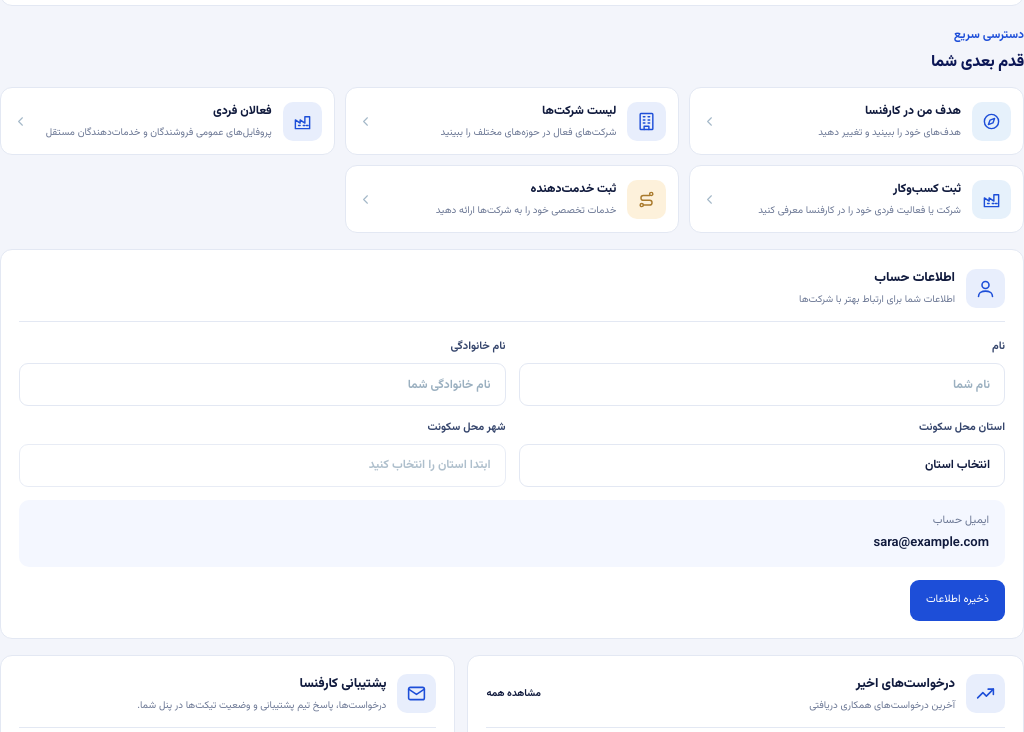
AccountPage › shows member details and saves profile completion
The width and height of the screenshot is (1024, 732).
(page scrolled)
Check: the text "لیست شرکت‌ها" is shown, box [542,102,616,120]
Check: the text "ثبت خدمت‌دهنده" is shown, box [530,180,616,198]
In the field labelled "نام": (762, 385) [518,363,1005,406], type "سارا"
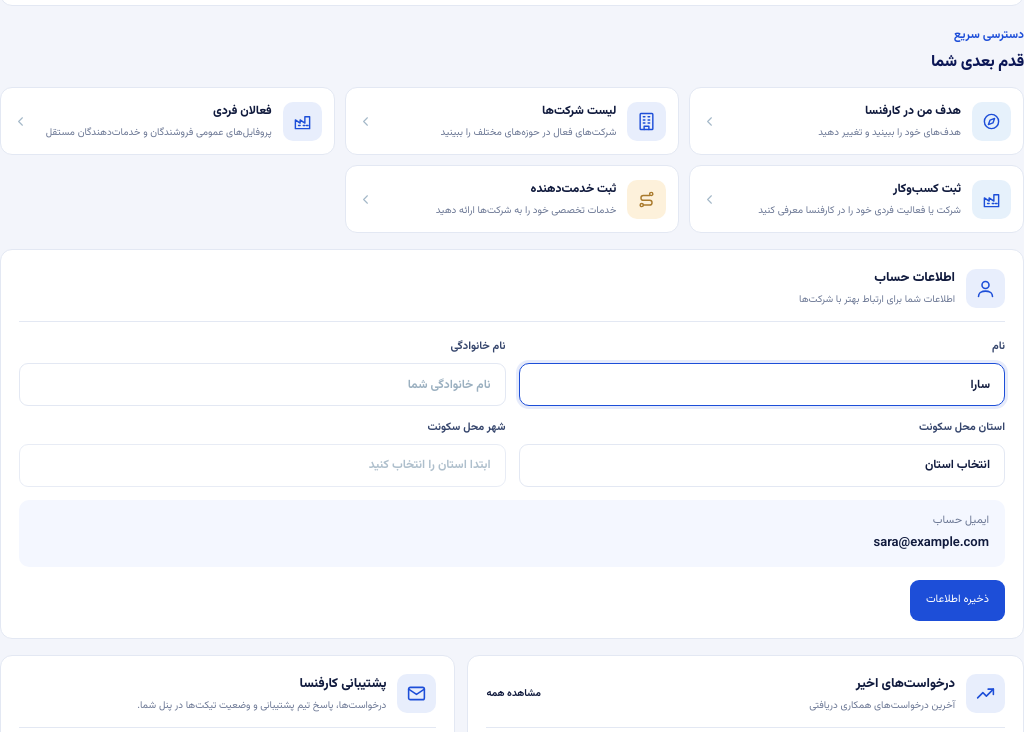
In the field labelled "نام خانوادگی": (262, 385) [19,363,506,406], type "احمدی"
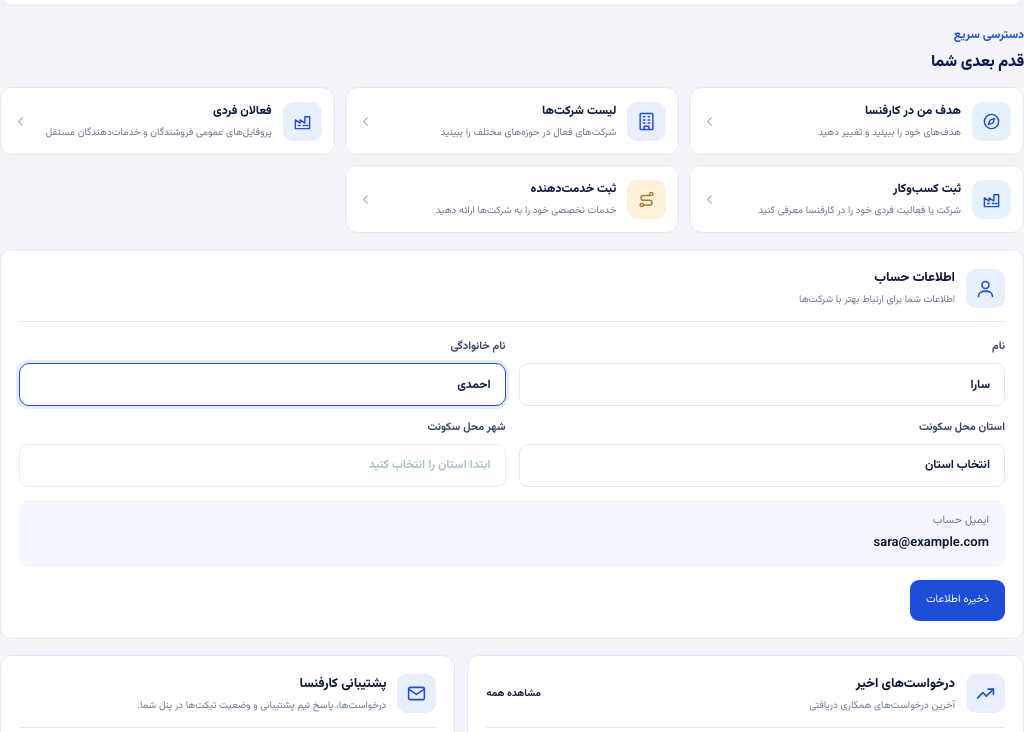
Select "تهران" in the dropdown labelled "استان محل سکونت": (762, 465) [518,444,1005,487]
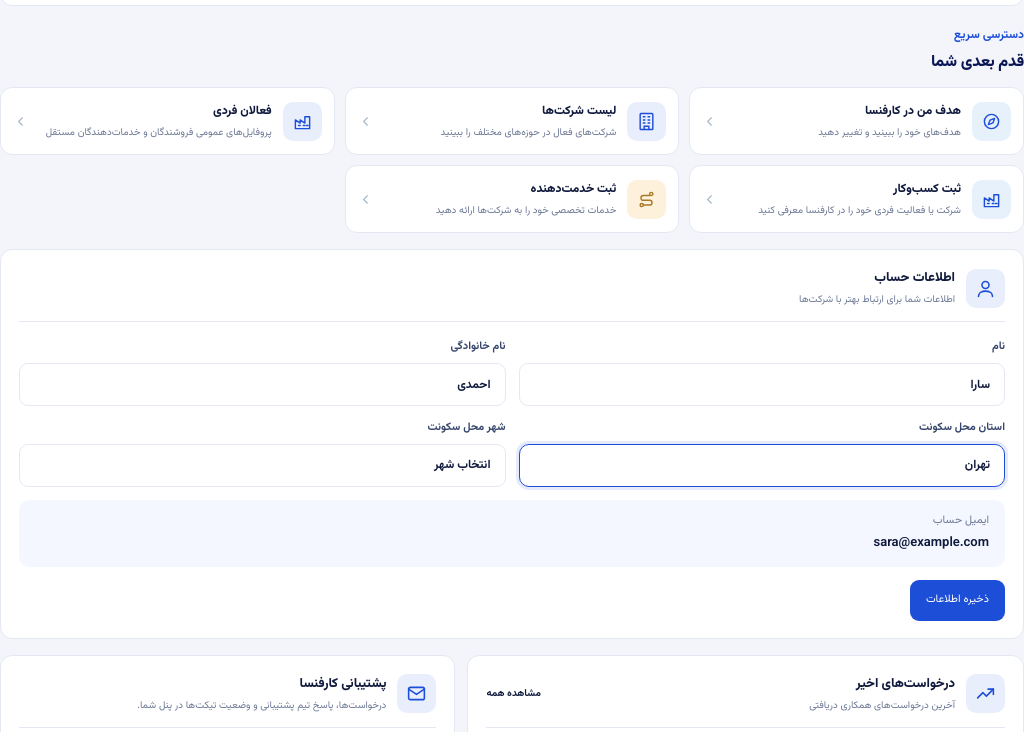
Select "تهران" in the dropdown labelled "شهر محل سکونت": (262, 465) [19,444,506,487]
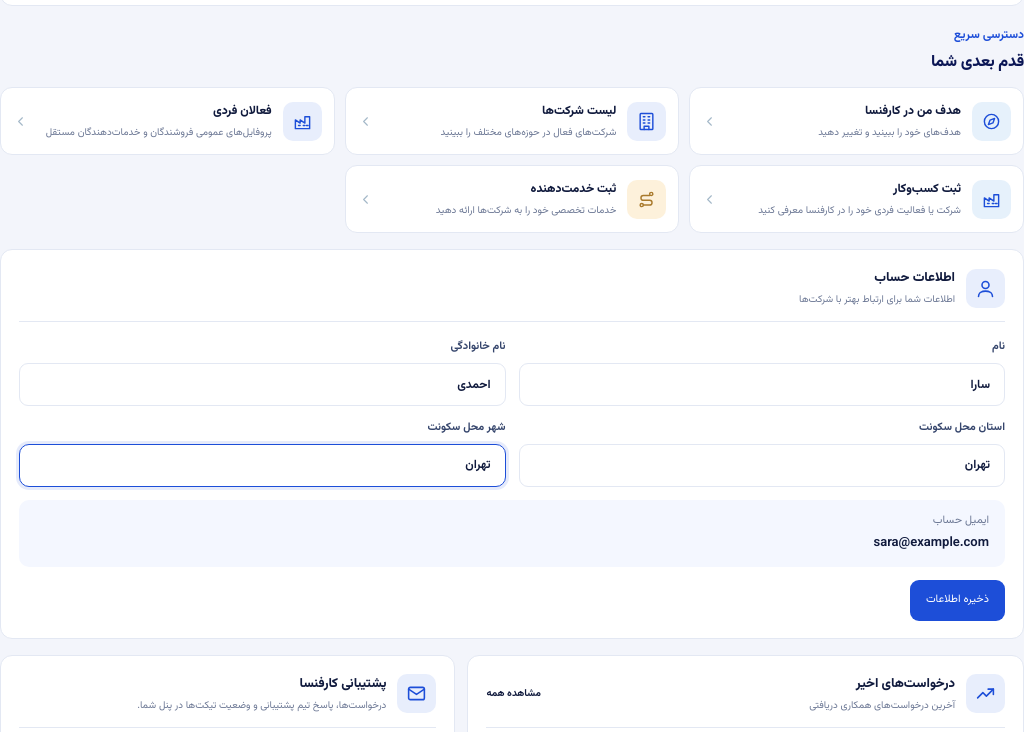
Click the button "ذخیره اطلاعات": (958, 600) [910,580,1005,620]
(page scrolled)
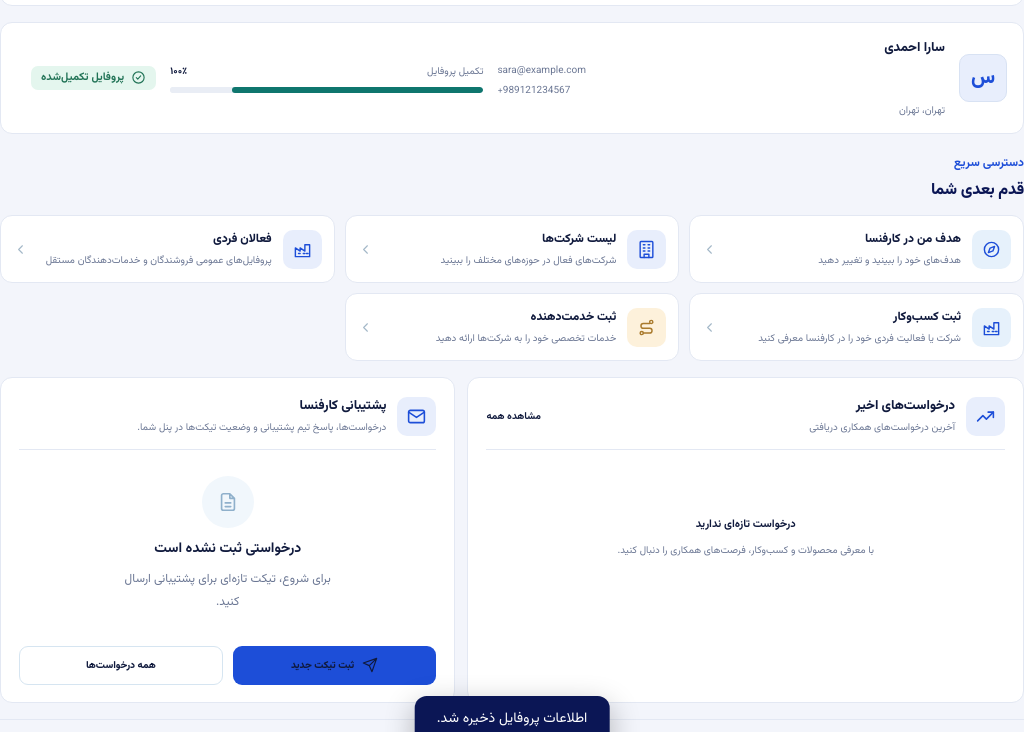
Check: the heading "اطلاعات حساب" is not shown
Check: the text "پروفایل تکمیل‌شده" is shown, box [31,66,156,90]
Check: the text "تهران، تهران" is shown, box [899,103,945,118]
